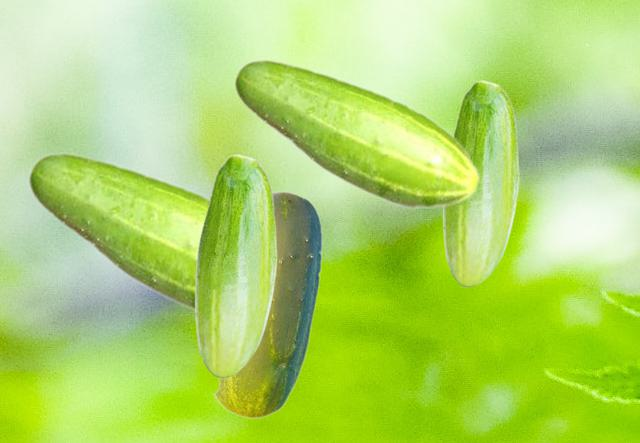cucumber: (233, 58, 480, 210), (27, 151, 208, 313), (213, 190, 321, 418), (194, 154, 276, 377), (442, 80, 518, 286)
